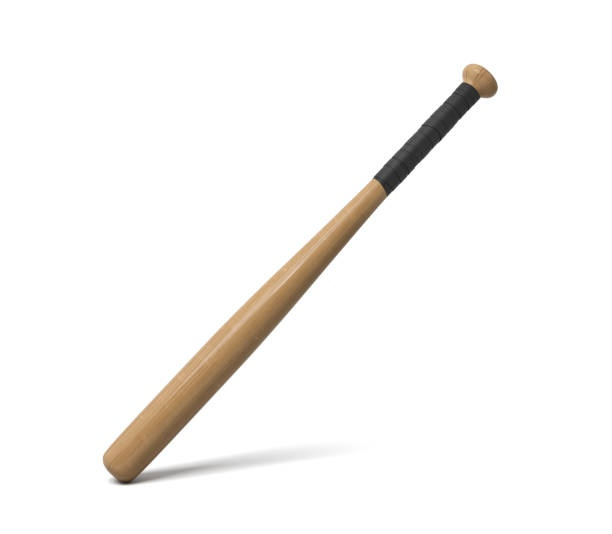bita: (97, 65, 498, 484)
